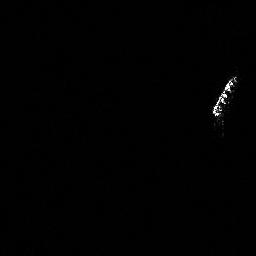ship: (209, 73, 241, 121)
